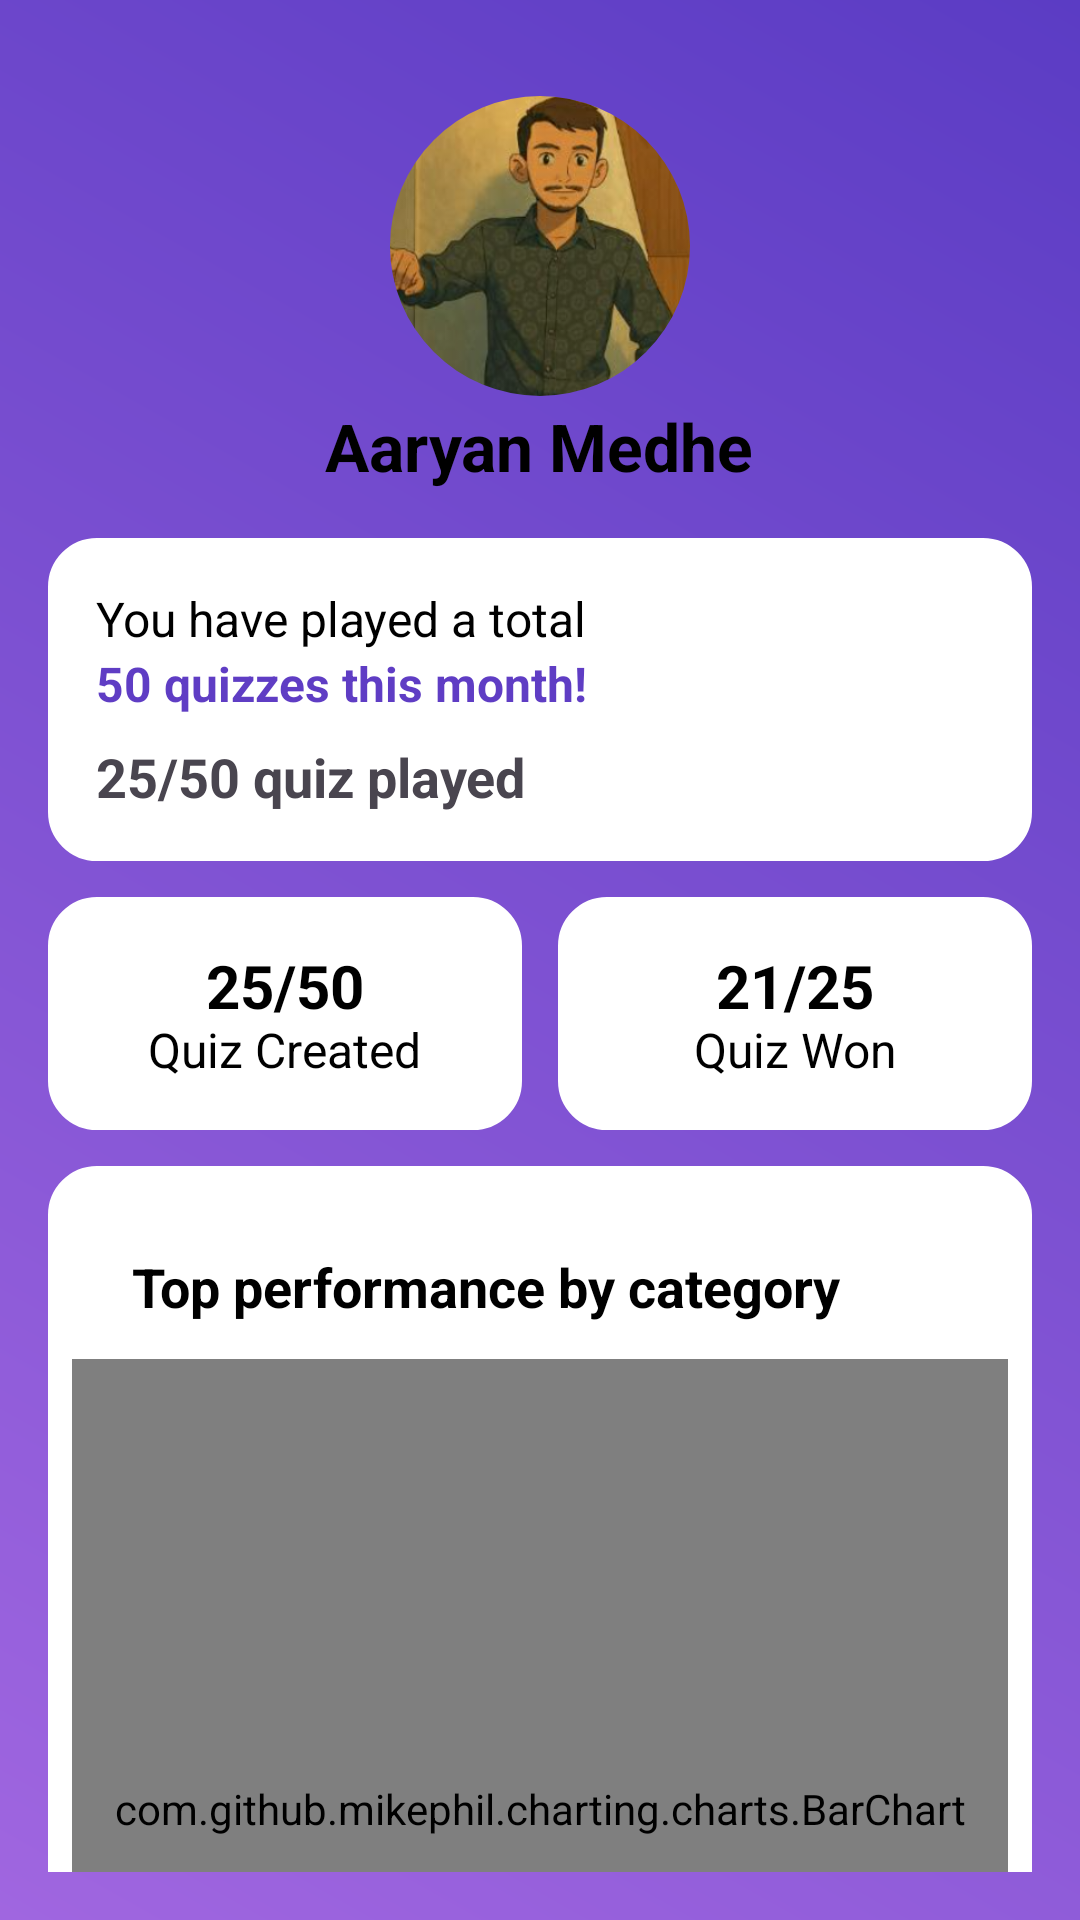

Icon bounding boxes for this 1080*1920 phone screenshot, format (x1, y1, x2, y2):
Profile Picture: (390, 96, 690, 396)
